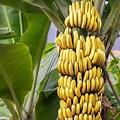banana: (57, 0, 105, 120), (55, 29, 109, 70), (66, 0, 111, 32), (53, 70, 105, 97), (59, 97, 106, 120)
